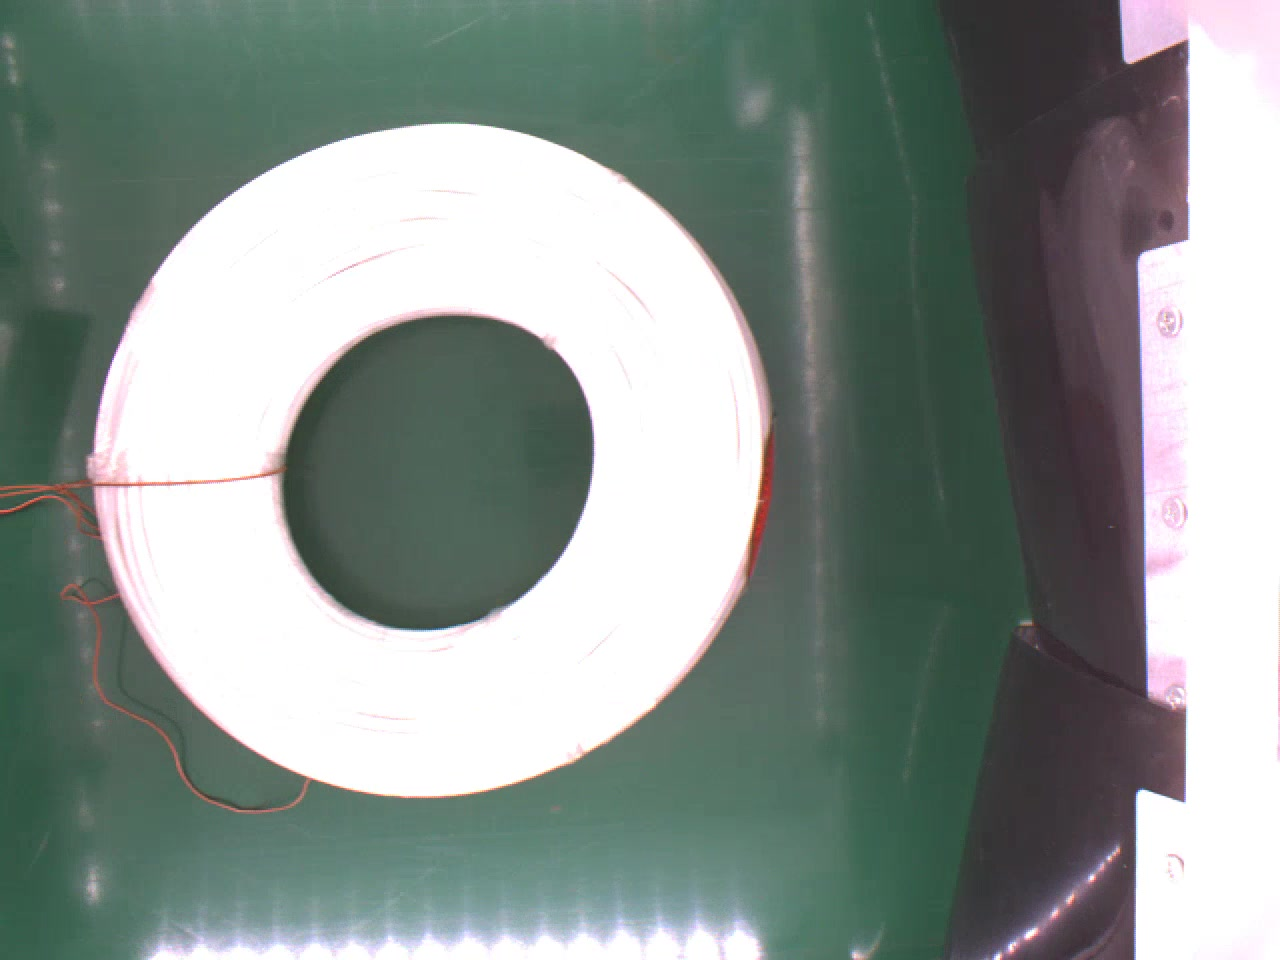white: (83, 114, 776, 796)
